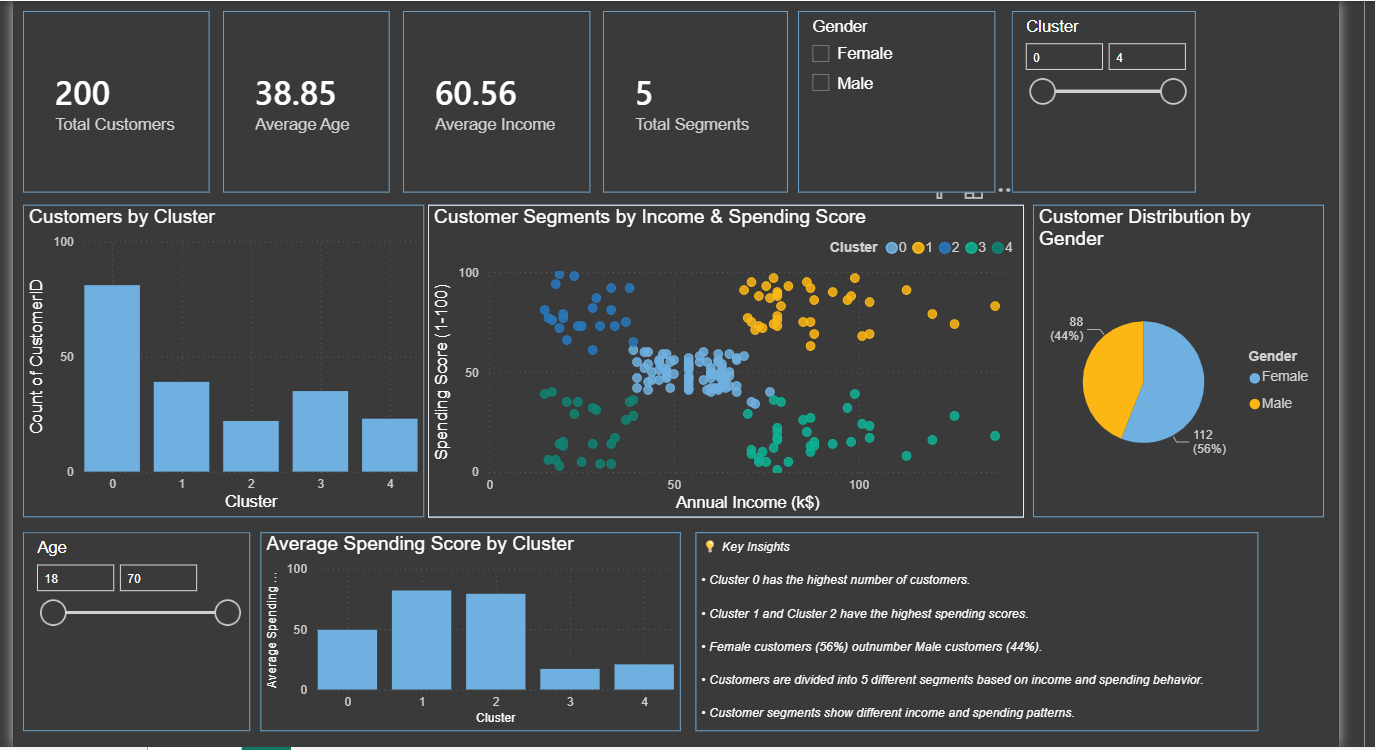

Layout of this report page (visuals, bound fields, positions):
{"tool":"powerbi","page":{"name":"Page 1","canvas":[1280,720],"ordinal":0},"visuals":[{"type":"cardVisual","fields":{"Data":["Customer_Segments.Total Customers"]},"box":[9.7,9.7,179.8,174.9],"z":0},{"type":"cardVisual","fields":{"Data":["Customer_Segments.Average Age"]},"box":[202.7,9.7,160.5,174.9],"z":1000},{"type":"cardVisual","fields":{"Data":["Customer_Segments.Average Income"]},"box":[376.4,9.7,181,174.9],"z":2000},{"type":"cardVisual","fields":{"Data":["Customer_Segments.Total Segments"]},"box":[569.4,9.7,178.6,174.9],"z":3000},{"type":"clusteredColumnChart","title":"Customers by Cluster","fields":{"Category":["Customer_Segments.Cluster"],"Y":["CountNonNull(Customer_Segments.CustomerID)"]},"box":[9.7,196.6,387.3,301.6],"z":4000},{"type":"scatterChart","title":"Customer Segments by Income & Spending Score","fields":{"X":["Customer_Segments.Annual Income (k$)"],"Y":["Customer_Segments.Spending Score (1-100)"],"Series":["Customer_Segments.Cluster"]},"box":[400.5,196.6,575.5,301.6],"z":5000},{"type":"pieChart","title":"Customer Distribution by Gender","fields":{"Category":["Customer_Segments.Genre"],"Y":["CountNonNull(Customer_Segments.CustomerID)"]},"box":[984.5,196.6,281.1,301.6],"z":6000},{"type":"slicer","fields":{"Values":["Customer_Segments.Genre"]},"box":[757.6,9.7,190.6,174.9],"z":7000},{"type":"slicer","fields":{"Values":["Customer_Segments.Cluster"]},"box":[963.9,9.7,177.3,174.9],"z":8000},{"type":"slicer","fields":{"Values":["Customer_Segments.Age"]},"box":[9.7,512.7,219.6,191.8],"z":9000},{"type":"clusteredColumnChart","fields":{"Category":["Customer_Segments.Cluster"],"Y":["Customer_Segments.Average Spending Score"]},"box":[238.9,512.7,405.4,191.8],"z":10000},{"type":"textbox","box":[658.7,512.7,542.9,191.8],"z":11000}]}

Visuals, with their boxes in screenshot pixels (x1, y1, x2, y2):
cardVisual - Customer_Segments.Total Customers: rect(31, 28, 216, 207)
cardVisual - Customer_Segments.Average Age: rect(229, 28, 394, 207)
cardVisual - Customer_Segments.Average Income: rect(407, 28, 593, 207)
cardVisual - Customer_Segments.Total Segments: rect(605, 28, 788, 207)
"Customers by Cluster" clusteredColumnChart: rect(31, 219, 428, 529)
"Customer Segments by Income & Spending Score" scatterChart: rect(432, 219, 1022, 529)
"Customer Distribution by Gender" pieChart: rect(1031, 219, 1319, 529)
slicer - Customer_Segments.Genre: rect(798, 28, 993, 207)
slicer - Customer_Segments.Cluster: rect(1010, 28, 1191, 207)
slicer - Customer_Segments.Age: rect(31, 543, 257, 740)
clusteredColumnChart - Customer_Segments.Cluster x Customer_Segments.Average Spending Score: rect(266, 543, 682, 740)
textbox: rect(697, 543, 1253, 740)
